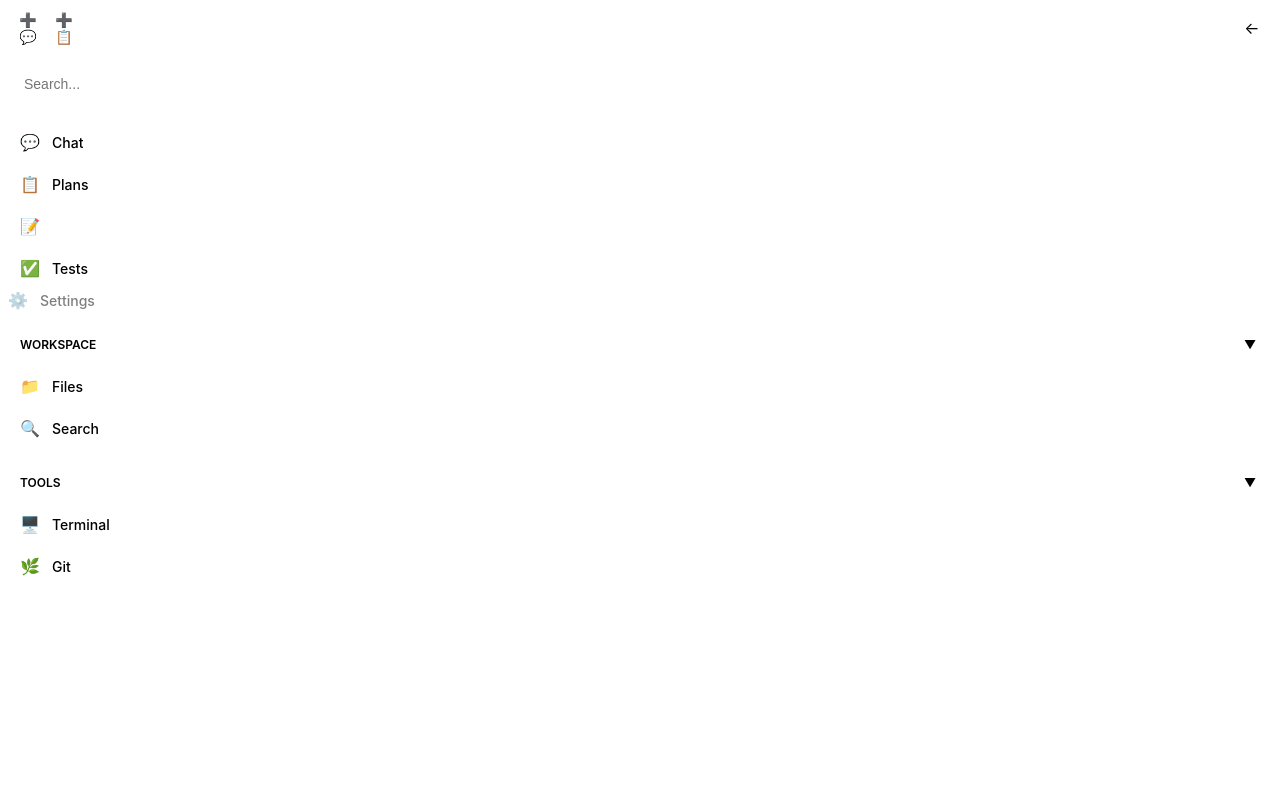
Test: Sidebar › Search › filters menu items based on search
The width and height of the screenshot is (1280, 800).
Type "test" into the field with placeholder "Search..." at point(640, 84), box left=12, top=68, right=1268, bottom=100
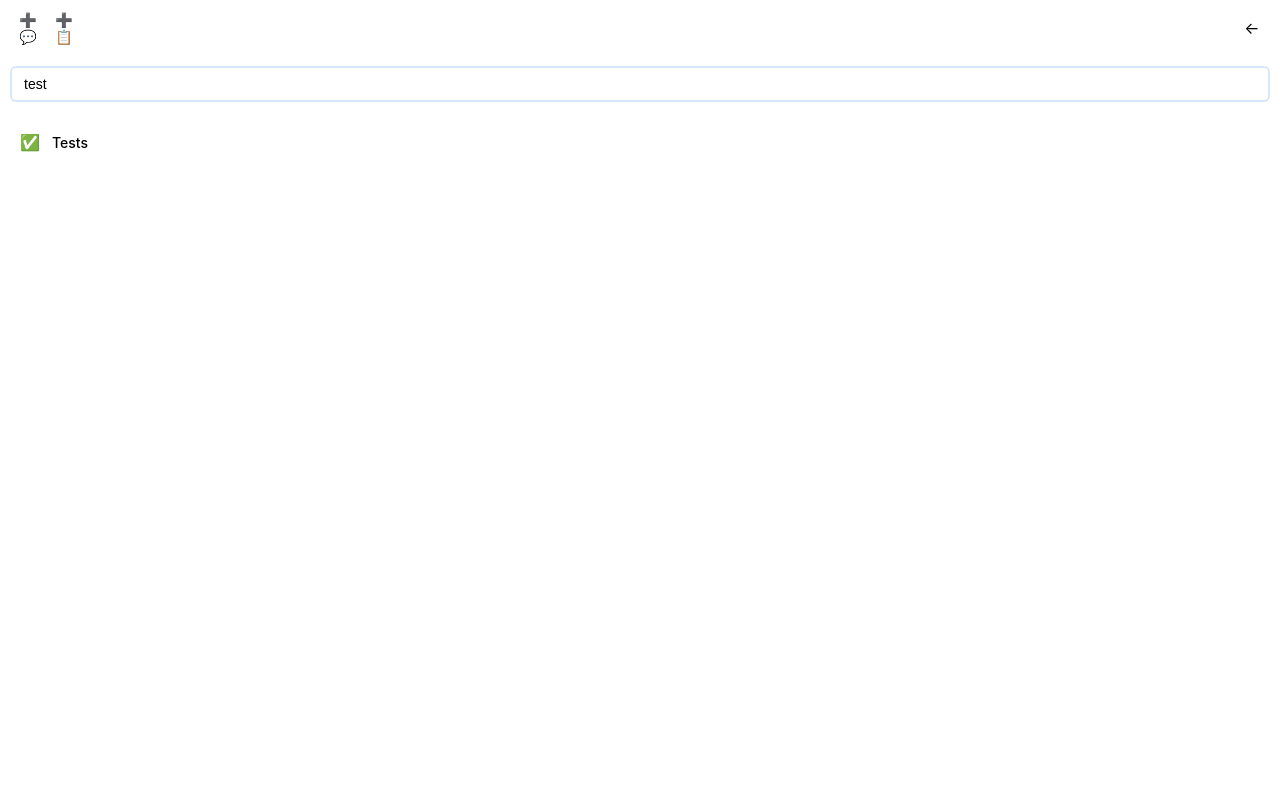
Expected: the link "✅ Tests" is shown, left=20, top=132, right=88, bottom=152
Expected: the link "Chat" is gone
